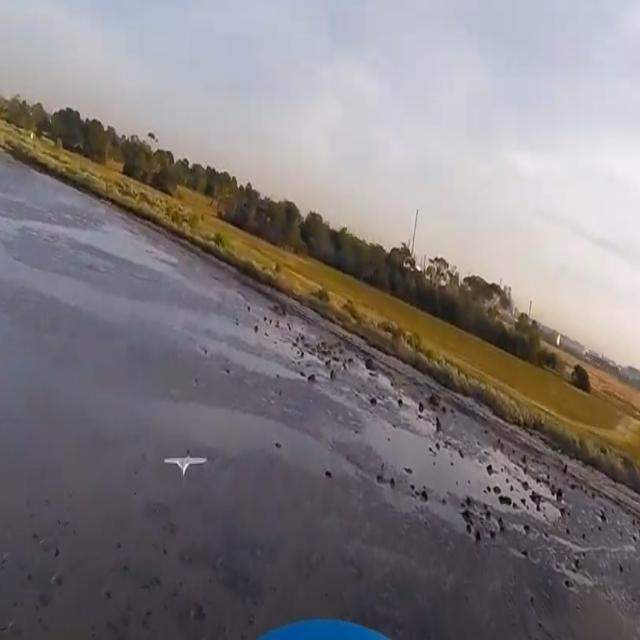iha: (163, 448, 207, 482)
